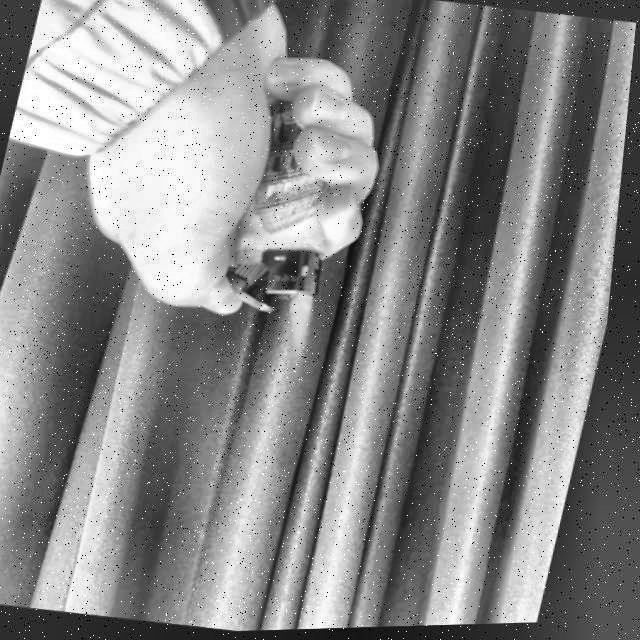Fire: (286, 295, 327, 362)
